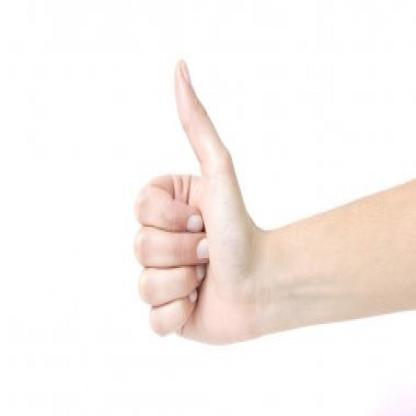thumb_up: (130, 52, 266, 347)
